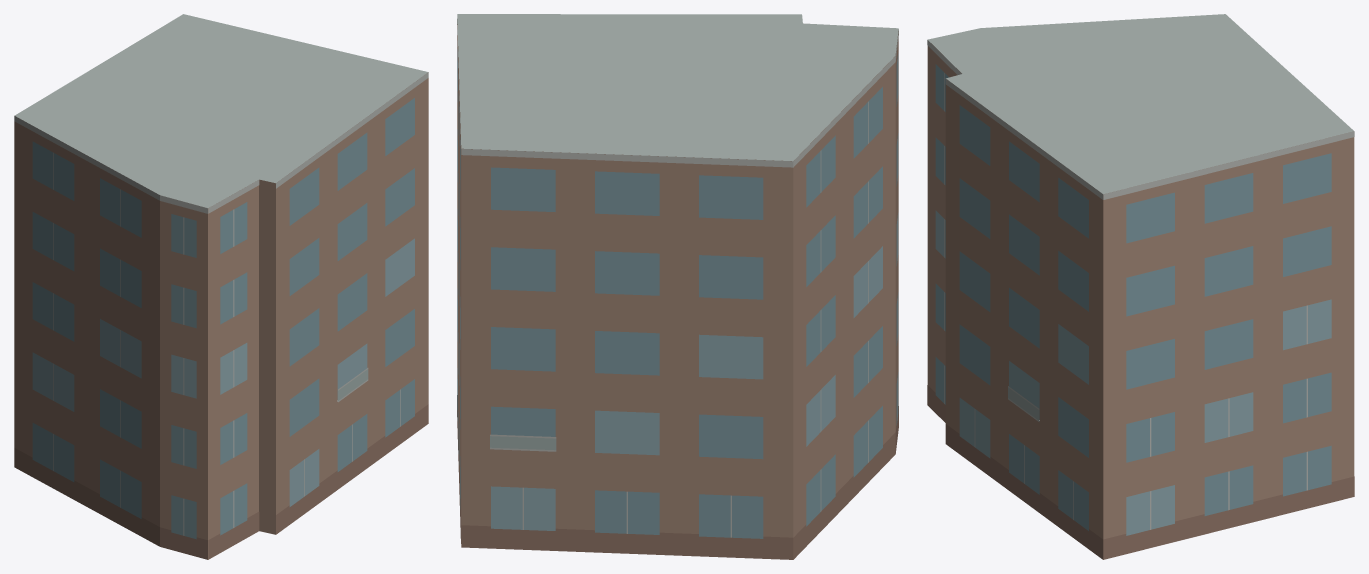
Rendered from survey-upis-32493264.glb.
3 views of the same model, side by side, from view 1: azimuth 30°, elevation 25°; view 2: azimuth 150°, elevation 25°; view 3: azimuth 270°, elevation 25° (orthographic). The views are drawn at different scales.
Visible parts, largest first — view 1: survey-upis-32493264.tmp; view 2: survey-upis-32493264.tmp; view 3: survey-upis-32493264.tmp.
Boxes of the visible parts, x1,y1,x2,y2 form: survey-upis-32493264.tmp: (14,14,428,559); survey-upis-32493264.tmp: (457,14,898,559); survey-upis-32493264.tmp: (927,14,1354,559).
Bounding box in the file's own units: 16.08 × 15.2 × 16.1.
